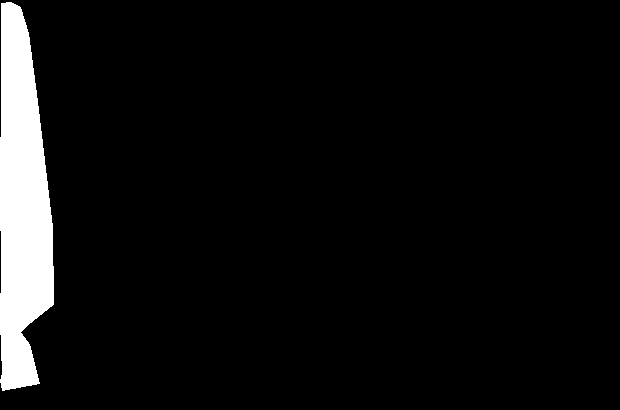type5: (1, 1, 58, 394)
